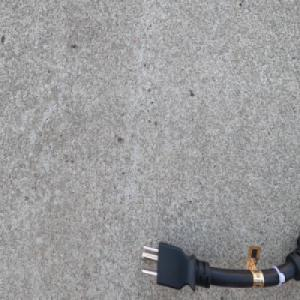Wire: (137, 228, 300, 293)
